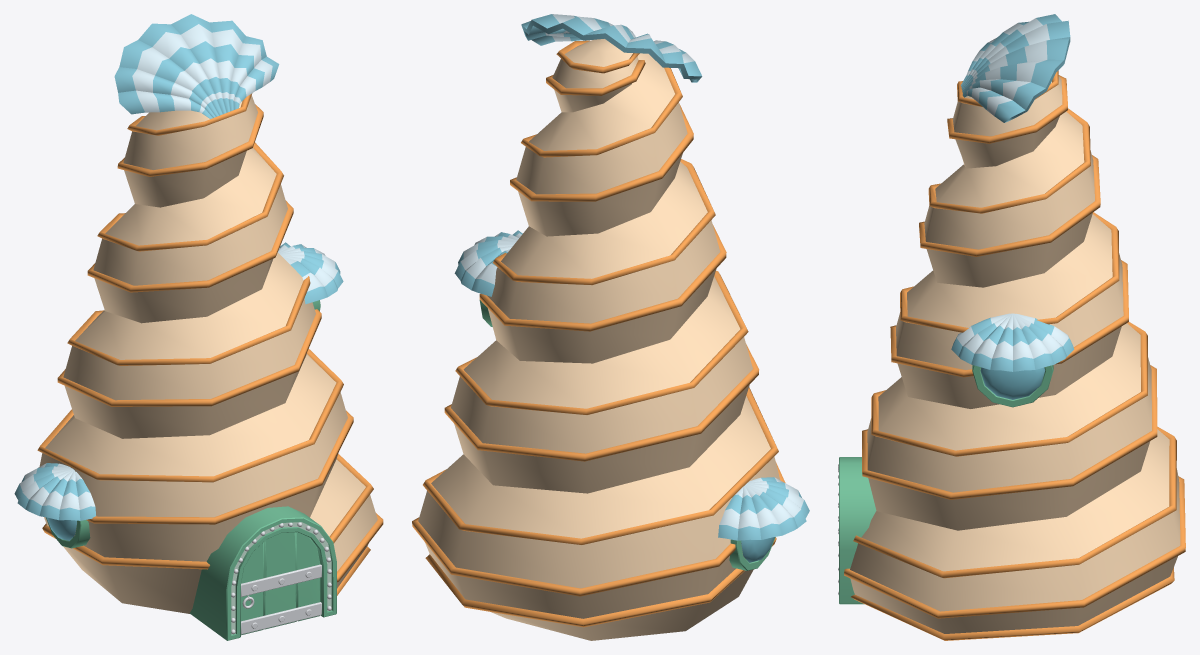
The model's file is House_6.fbx.
3 views of the same model, side by side, from view 1: azimuth 30°, elevation 25°; view 2: azimuth 150°, elevation 25°; view 3: azimuth 270°, elevation 25° (orthographic). The views are drawn at different scales.
Parts seen in each view (by area): view 1: House_6; view 2: House_6; view 3: House_6.
Part boxes in pixels (<box>): House_6: <box>14,14,383,640</box>; House_6: <box>412,14,809,640</box>; House_6: <box>838,14,1185,640</box>.
Size of the model in its own units: 2.23 by 3.49 by 2.02.
